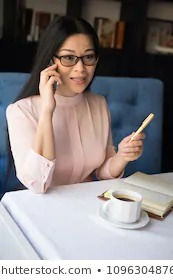C_blouse: (5, 88, 128, 194)
